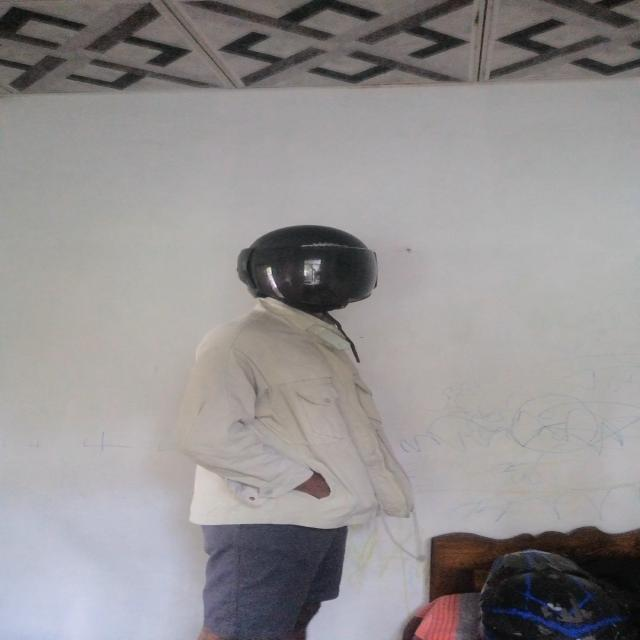Helmet_Wearer: (237, 224, 387, 340)
Jacket_Wearer: (194, 290, 436, 538)
Person: (187, 218, 419, 640)
